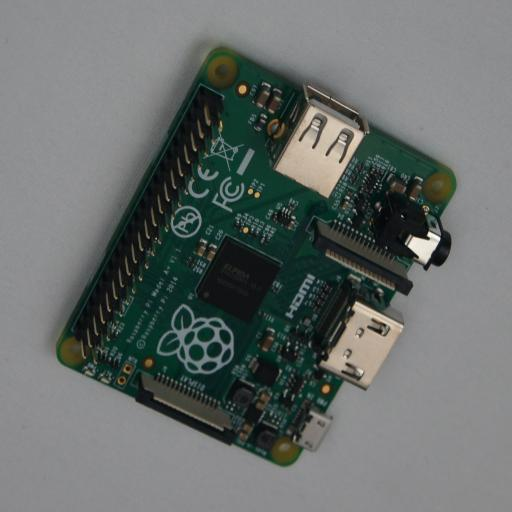Raspberry Pi A-: (56, 46, 456, 466)
